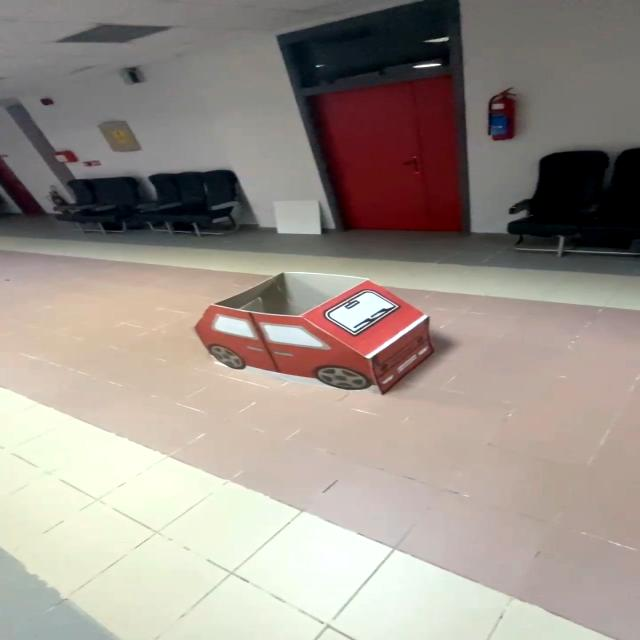red_car: (164, 255, 471, 407)
